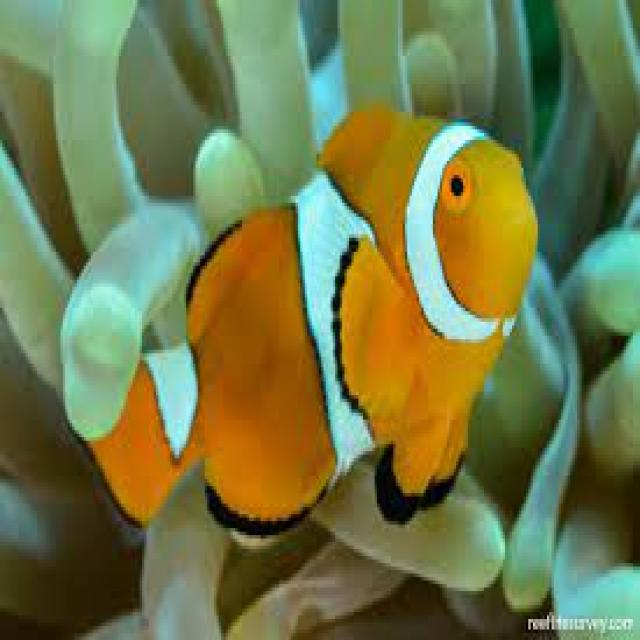Amphiprion-percula: (71, 80, 545, 560)
